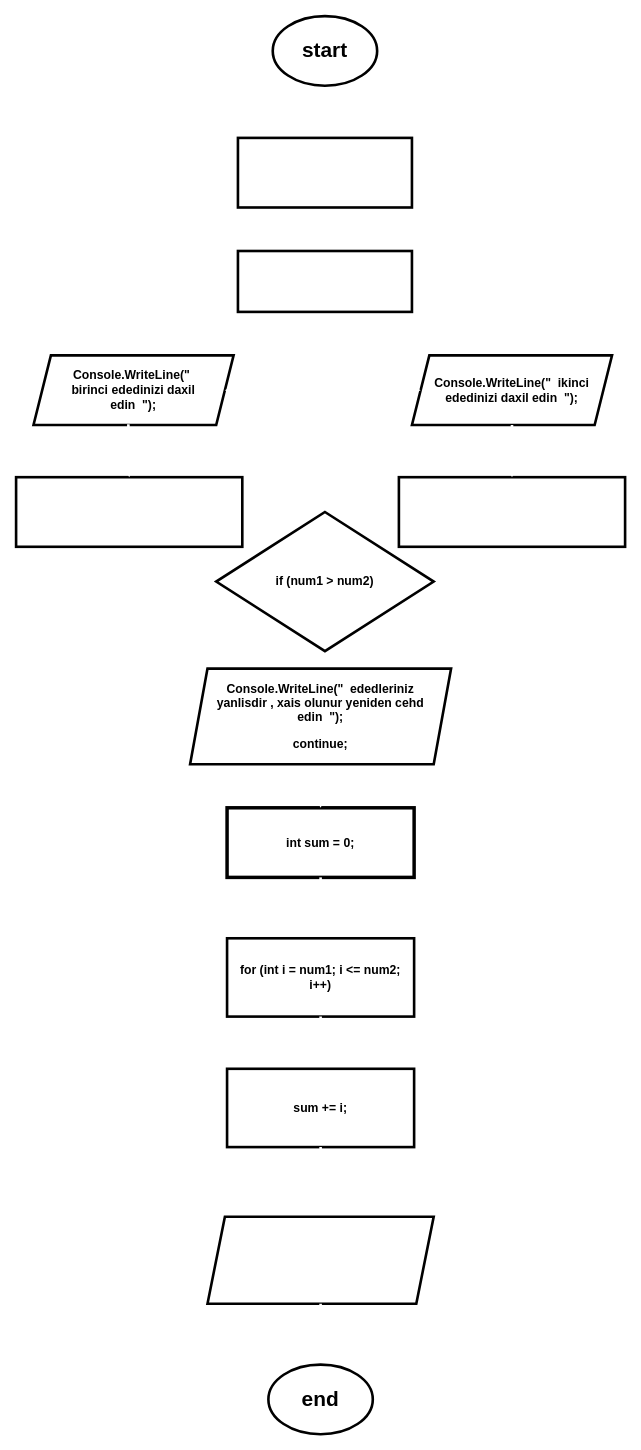
Some shapes in this 641 by 1450 pixel diagram are drawn without their labels. Here are the shapes that lost their labels. From the top down, the box of each, then its label:
(236, 136, 413, 208): bool IsContinue = true;
(236, 249, 413, 313): while ( IsContinue )
(14, 475, 243, 548): int num1 = Convert.ToInt32(Console.ReadLine());
(397, 475, 626, 548): int num2 = Convert.ToInt32(Console.ReadLine());
(206, 1215, 435, 1305): Console.WriteLine(sum);
